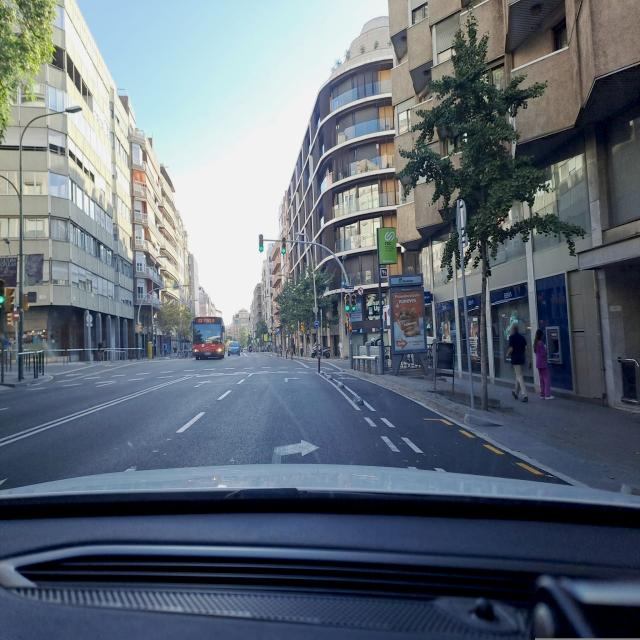car: (311, 344, 331, 358), (227, 341, 241, 356)
